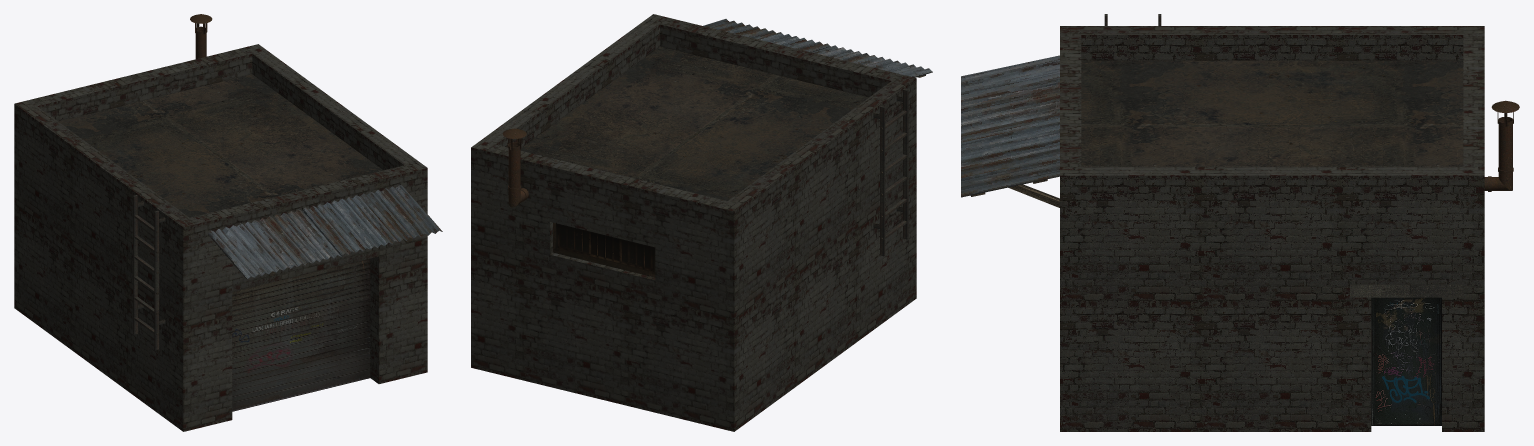
The model's file is garage_hl_2.glb.
3 renders of one model, left to right at view 1: azimuth 30°, elevation 25°; view 2: azimuth 150°, elevation 25°; view 3: azimuth 270°, elevation 25°, orthographic. The views are drawn at different scales.
Parts seen in each view (by area): view 1: garage_hl_2; view 2: garage_hl_2; view 3: garage_hl_2.
Part boxes in pixels (x1=…): garage_hl_2: x1=14, y1=14, x2=442, y2=431; garage_hl_2: x1=471, y1=14, x2=932, y2=431; garage_hl_2: x1=961, y1=14, x2=1519, y2=431.
Size of the model in its own units: 5.22 by 4.7 by 7.9.
10 materials, 10 textured.
